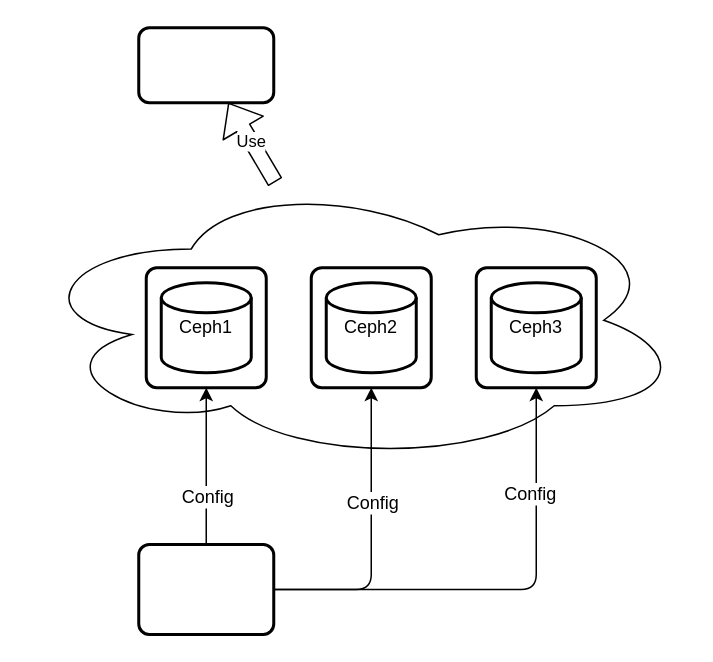
This 713x662 diagram has some shape labels left out. The centre of each missing label's shape, as x and y in pixels:
"Cephadmin" belongs at (205,588).
"Cephclient" belongs at (205,65).
